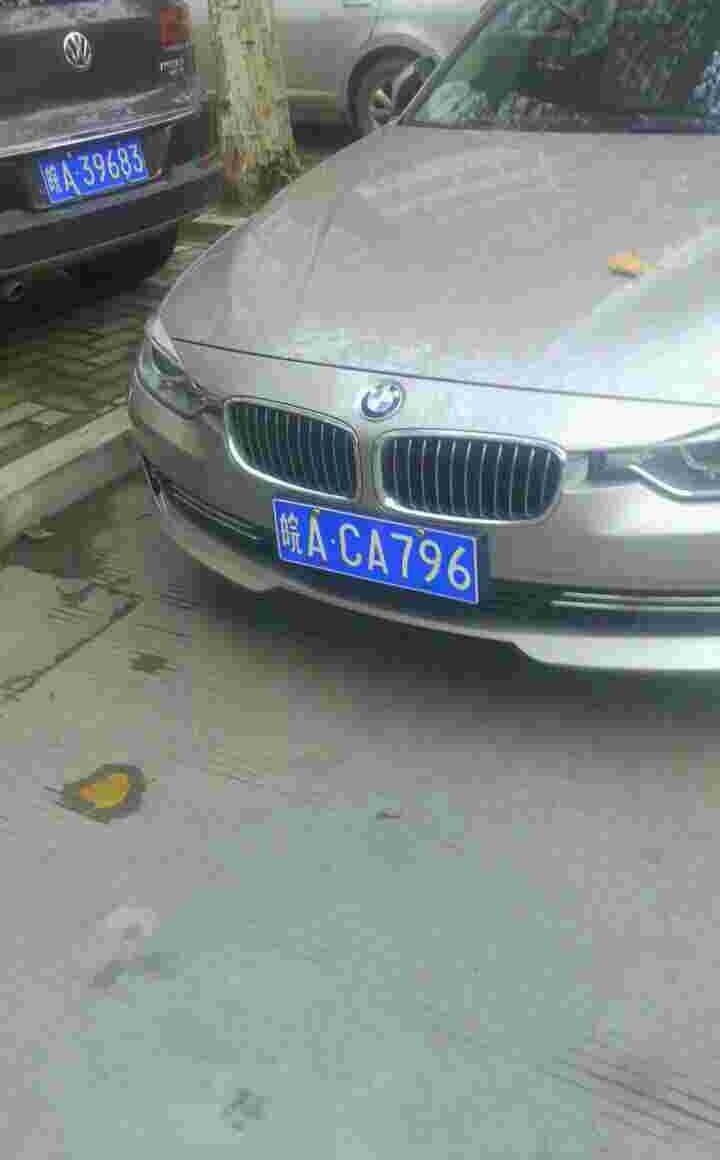license_plate: (275, 496, 479, 593)
